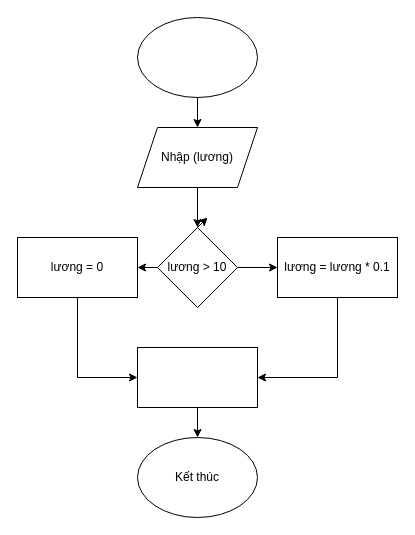
This 415x535 diagram has some shape labels left out. Here are the shapes that lost their labels. From the top down, the box of each, then its label:
(136, 16, 258, 98): Bắt đầu
(136, 346, 258, 408): In (lương)
